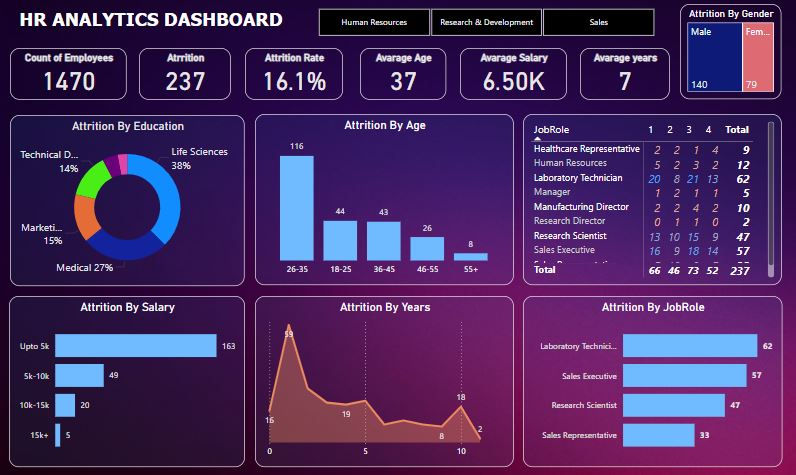

Layout of this report page (visuals, bound fields, positions):
{"tool":"powerbi","page":{"name":"Page 1","canvas":[1280,720],"ordinal":0},"visuals":[{"type":"card","title":"Count of Employees","fields":{"Values":["CountNonNull(HR_Analytics.EmpID)"]},"box":[22.2,75,169.4,75],"z":0},{"type":"card","title":"Atrrition","fields":{"Values":["Sum(HR_Analytics.AttritionCount)"]},"box":[208.3,75,133.3,75],"z":1000},{"type":"card","title":"Attrition Rate","fields":{"Values":["HR_Analytics.AttritionRate"]},"box":[361.7,75,141.7,75],"z":2000},{"type":"card","title":"Avarage Age","fields":{"Values":["Avg(HR_Analytics.Age)"]},"box":[528.3,75,125,75],"z":3000},{"type":"card","title":"Avarage Salary","fields":{"Values":["Avg(HR_Analytics.MonthlyIncome)"]},"box":[673.3,75,155,75],"z":4000},{"type":"card","title":"Avarage years","fields":{"Values":["Avg(HR_Analytics.YearsAtCompany)"]},"box":[848.3,75,130,75],"z":5000},{"type":"donutChart","title":"Attrition By Education","fields":{"Y":["Sum(HR_Analytics.AttritionCount)"],"Category":["HR_Analytics.EducationField"]},"box":[22,172,340,248],"z":6000},{"type":"columnChart","title":"Attrition By Age","fields":{"Category":["HR_Analytics.AgeGroup"],"Y":["Sum(HR_Analytics.AttritionCount)"]},"box":[376.7,171.7,375,248.3],"z":7000},{"type":"pivotTable","fields":{"Rows":["HR_Analytics.JobRole"],"Columns":["HR_Analytics.JobSatisfaction"],"Values":["Sum(HR_Analytics.AttritionCount)"]},"box":[765,171.7,375,248.3],"z":8000},{"type":"barChart","title":"Attrition By Salary","fields":{"Category":["HR_Analytics.SalarySlab"],"Y":["Sum(HR_Analytics.AttritionCount)"]},"box":[19.8,435.1,341.6,248],"z":9000},{"type":"barChart","title":"Attrition By JobRole","fields":{"Y":["Sum(HR_Analytics.AttritionCount)"],"Category":["HR_Analytics.JobRole"]},"box":[765.4,435.1,375.6,248],"z":10000},{"type":"areaChart","title":"Attrition By Years","fields":{"Category":["HR_Analytics.YearsAtCompany"],"Y":["Sum(HR_Analytics.AttritionCount)"]},"box":[376.7,435,375,248.3],"z":11000},{"type":"treemap","title":"Attrition  By Gender","fields":{"Group":["HR_Analytics.Gender"],"Values":["Sum(HR_Analytics.AttritionCount)"]},"box":[993.3,11.7,146.7,138.3],"z":12000},{"type":"slicer","fields":{"Values":["HR_Analytics.Department"]},"box":[443.1,11.1,536.1,52.8],"z":13000},{"type":"textbox","box":[0,11.1,452.8,52.8],"z":14000}]}

Visuals, with their boxes in screenshot pixels (x1, y1, x2, y2):
"Count of Employees" card: locate(79, 55, 180, 99)
"Atrrition" card: locate(190, 55, 268, 99)
"Attrition Rate" card: locate(280, 55, 364, 99)
"Avarage Age" card: locate(379, 55, 453, 99)
"Avarage Salary" card: locate(465, 55, 556, 99)
"Avarage years" card: locate(568, 55, 645, 99)
"Attrition By Education" donutChart: locate(79, 112, 280, 259)
"Attrition By Age" columnChart: locate(289, 112, 511, 259)
pivotTable - HR_Analytics.JobRole x HR_Analytics.JobSatisfaction: locate(519, 112, 741, 259)
"Attrition By Salary" barChart: locate(78, 268, 280, 414)
"Attrition By JobRole" barChart: locate(519, 268, 741, 414)
"Attrition By Years" areaChart: locate(289, 268, 511, 415)
"Attrition  By Gender" treemap: locate(654, 17, 741, 99)
slicer - HR_Analytics.Department: locate(328, 17, 646, 48)
textbox: locate(66, 17, 334, 48)
